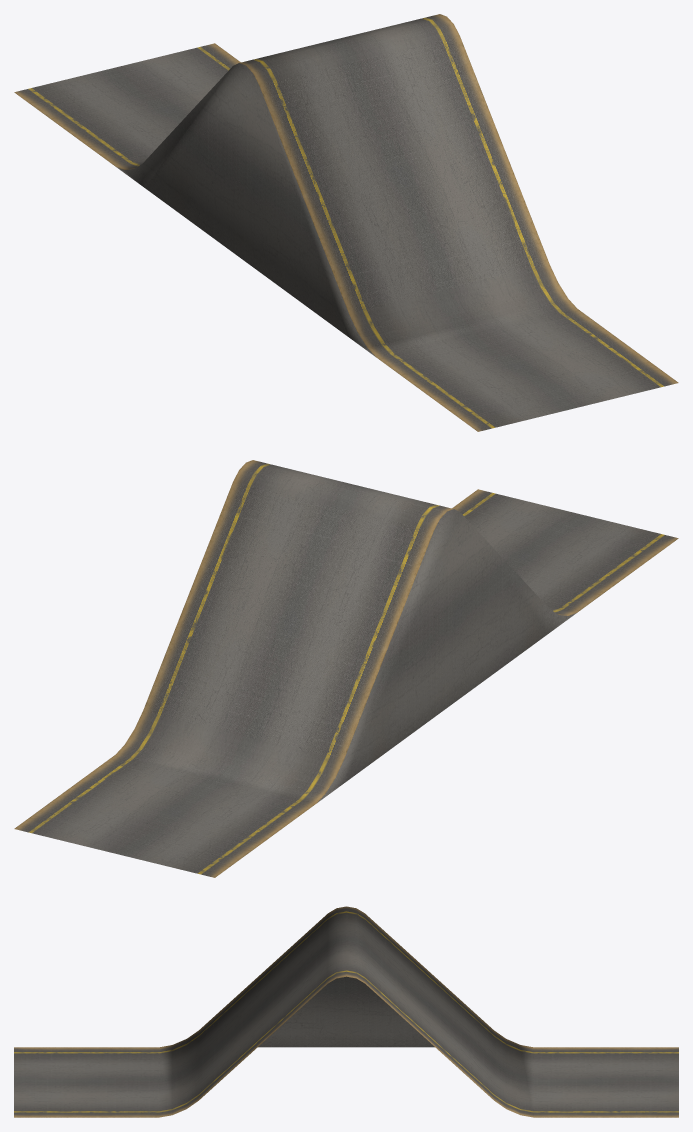
File: road.100.fbx
The picture shows the model from 3 angles, top to bottom: view 1: azimuth 30°, elevation 25°; view 2: azimuth 150°, elevation 25°; view 3: azimuth 270°, elevation 25°; orthographic projection. The views are drawn at different scales.
Visible parts, largest first — view 1: road_100; view 2: road_100; view 3: road_100.
Boxes of the visible parts, <box> form: road_100: <box>14,14,678,431</box>; road_100: <box>14,460,678,877</box>; road_100: <box>14,906,678,1117</box>.
Bounding box in the file's own units: 8 × 7.48 × 32.
